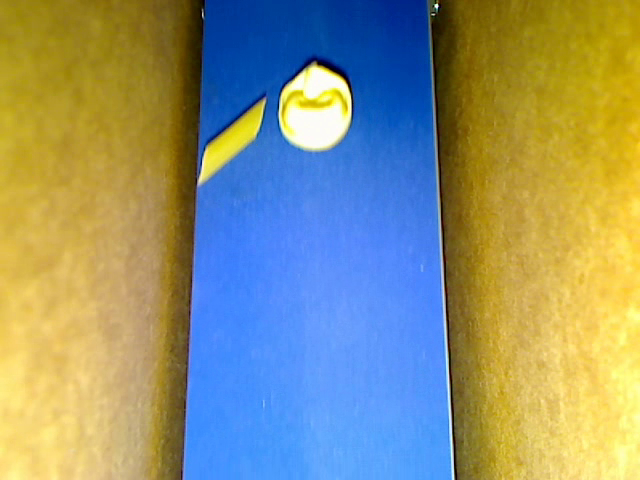penne: (197, 97, 265, 183)
